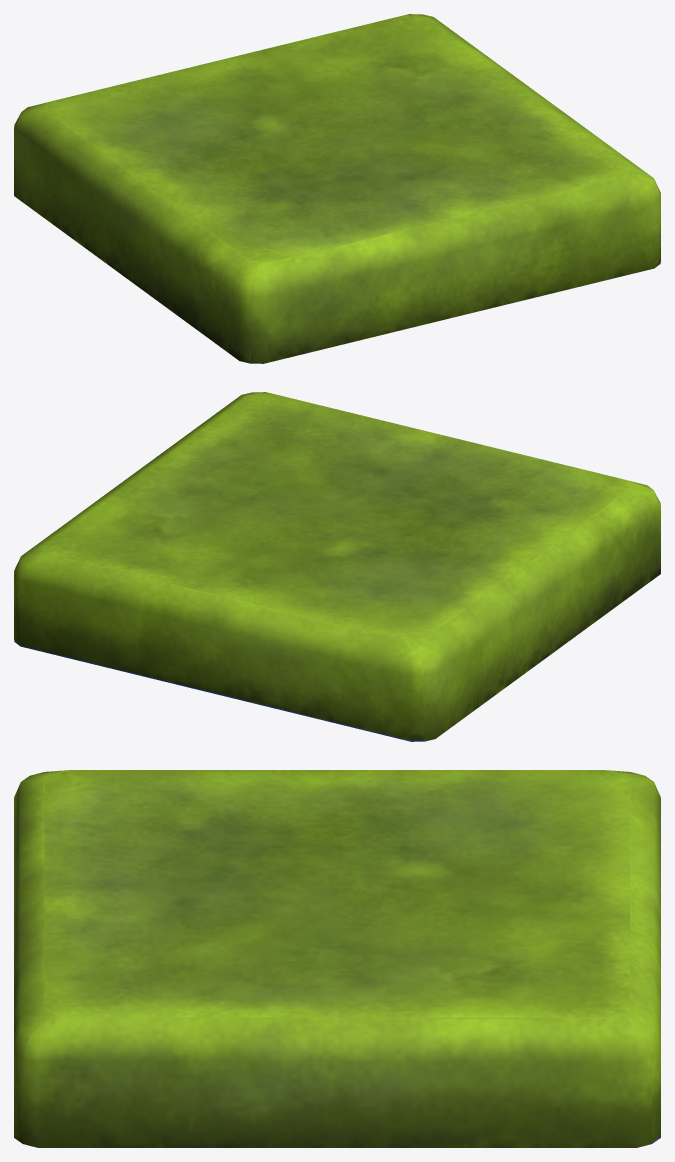
The model's file is Block_Cap_Mossy.fbx.
The picture shows the model from 3 angles, top to bottom: view 1: azimuth 30°, elevation 25°; view 2: azimuth 150°, elevation 25°; view 3: azimuth 270°, elevation 25°; orthographic projection. The views are drawn at different scales.
Parts seen in each view (by area): view 1: Block_Cap_Mossy; view 2: Block_Cap_Mossy; view 3: Block_Cap_Mossy.
Part boxes in pixels (x1=…): Block_Cap_Mossy: x1=14, y1=14, x2=660, y2=363; Block_Cap_Mossy: x1=14, y1=392, x2=660, y2=741; Block_Cap_Mossy: x1=14, y1=770, x2=660, y2=1147.
Size of the model in its own units: 100 by 20 by 100.
